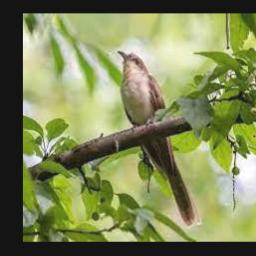Cuckoo: (117, 50, 202, 228)
